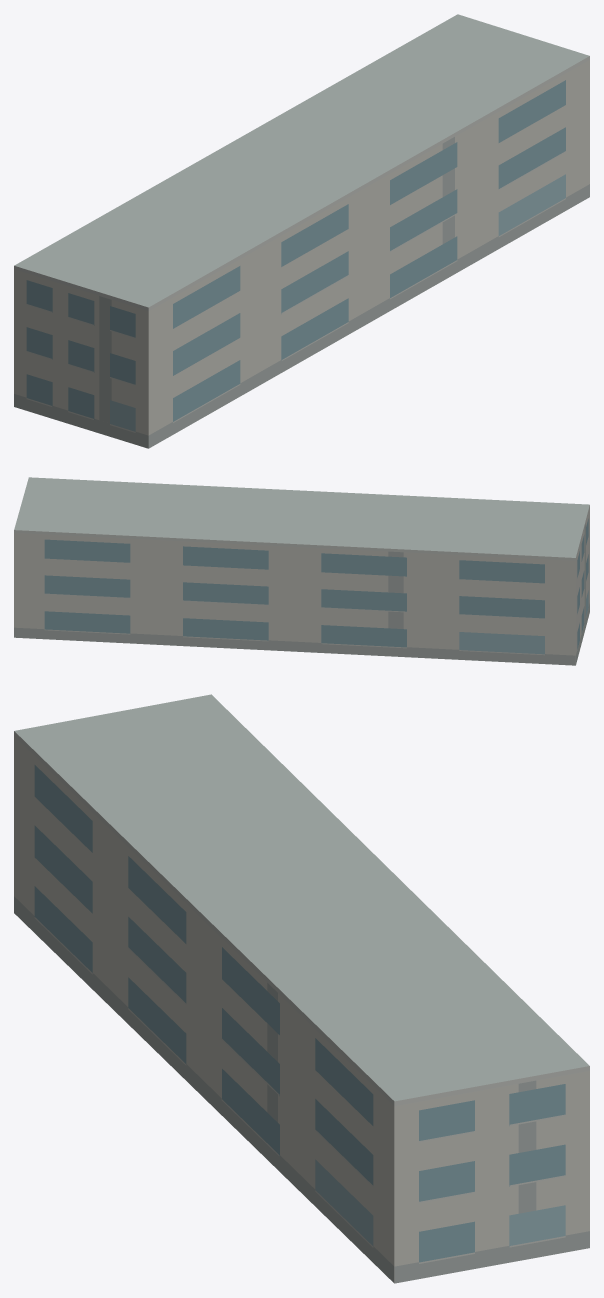
Rendered from survey-upis-32585650.glb.
3 views of the same model, one above another, from view 1: azimuth 30°, elevation 25°; view 2: azimuth 150°, elevation 25°; view 3: azimuth 270°, elevation 25° (orthographic). The views are drawn at different scales.
Parts seen in each view (by area): view 1: survey-upis-32585650.tmp; view 2: survey-upis-32585650.tmp; view 3: survey-upis-32585650.tmp.
Part boxes in pixels (x1,y1,x2,y2): survey-upis-32585650.tmp: (14, 14, 589, 448); survey-upis-32585650.tmp: (14, 477, 589, 665); survey-upis-32585650.tmp: (14, 694, 589, 1283).
Bounding box in the file's own units: 43.87 × 9.15 × 26.23.
